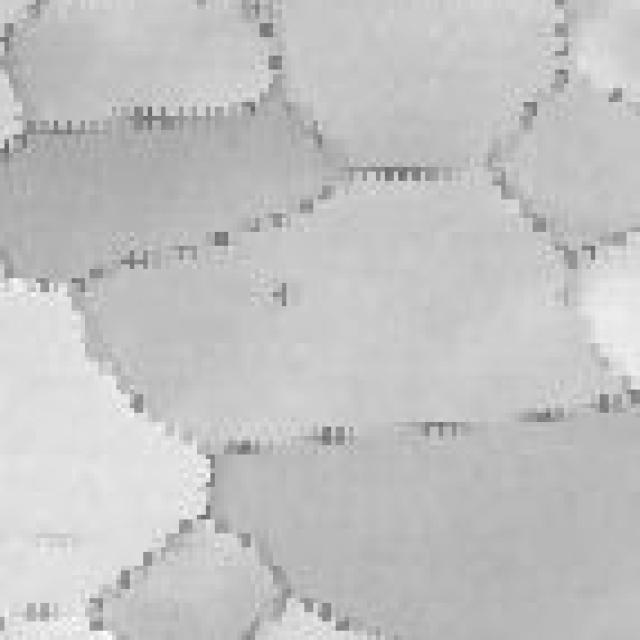good_void: (268, 282, 290, 311)
